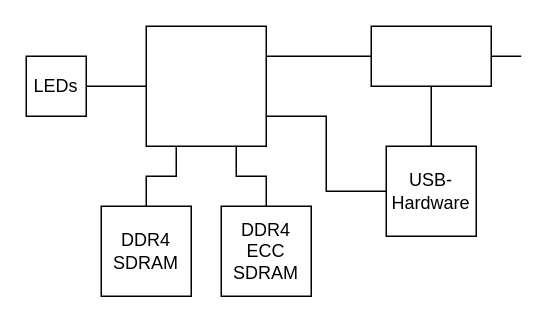
This 549x323 diagram has some shape labels left out. Each missing label, with the centre of its shape:
"Modul- stecker" belongs at (x=430, y=55).
"Zynq Ultrascale+" belongs at (x=205, y=85).
